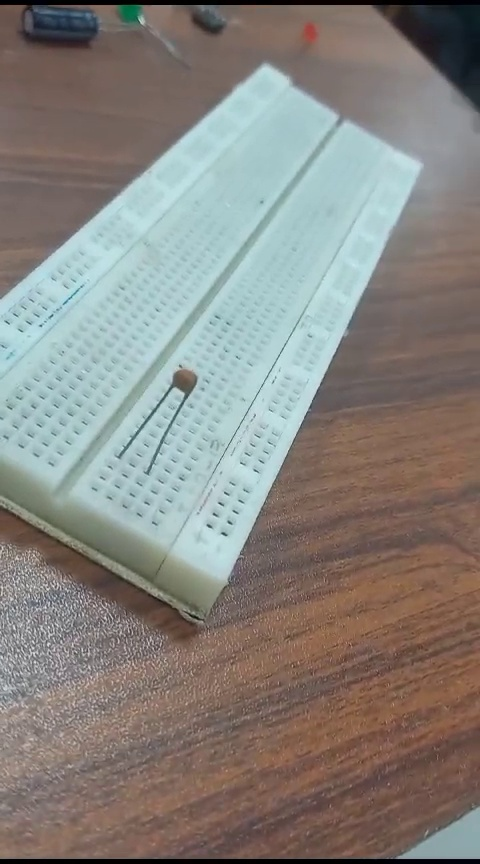ceramic capacitor: (114, 367, 210, 468)
